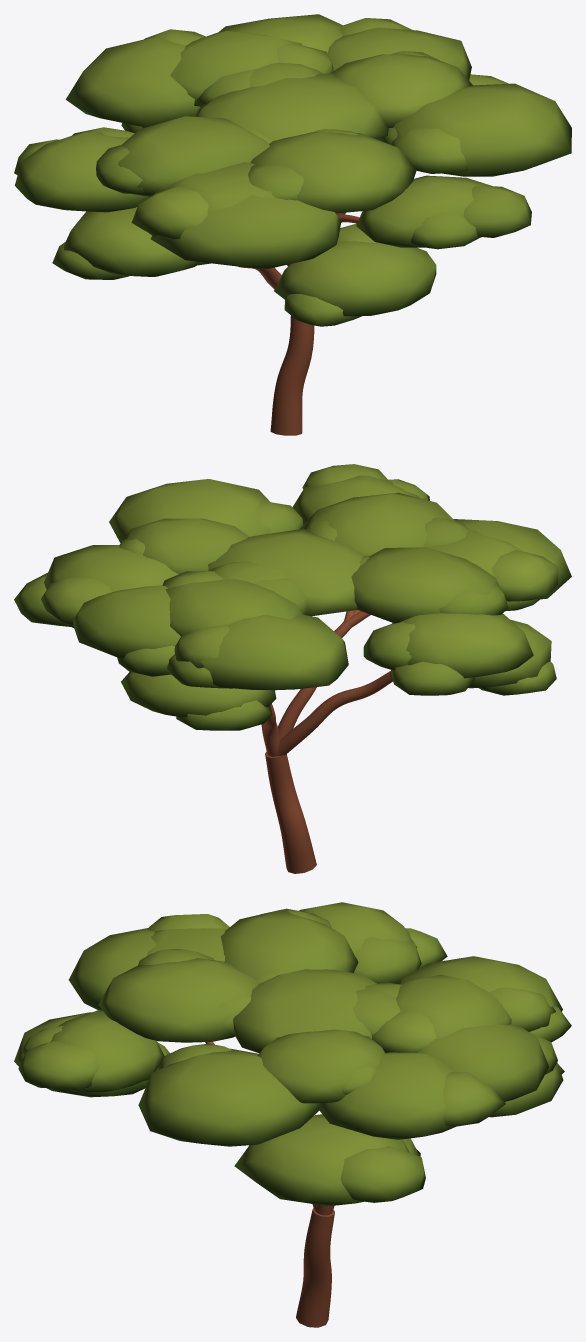
The model's file is acacia_tiered.glb.
3 views of the same model, one above another, from view 1: azimuth 30°, elevation 25°; view 2: azimuth 150°, elevation 25°; view 3: azimuth 270°, elevation 25° (orthographic). The views are drawn at different scales.
Visible parts, largest first — view 1: acacia_tiered_leaves, acacia_tiered_bark; view 2: acacia_tiered_leaves, acacia_tiered_bark; view 3: acacia_tiered_leaves, acacia_tiered_bark.
Boxes of the visible parts, x1,y1,x2,y2 form: acacia_tiered_leaves: [14, 14, 571, 326]; acacia_tiered_bark: [238, 212, 359, 435]; acacia_tiered_leaves: [14, 464, 571, 730]; acacia_tiered_bark: [261, 610, 392, 873]; acacia_tiered_leaves: [14, 902, 571, 1206]; acacia_tiered_bark: [205, 1041, 334, 1327].
Bounding box in the file's own units: 20.47 × 13 × 19.45.
